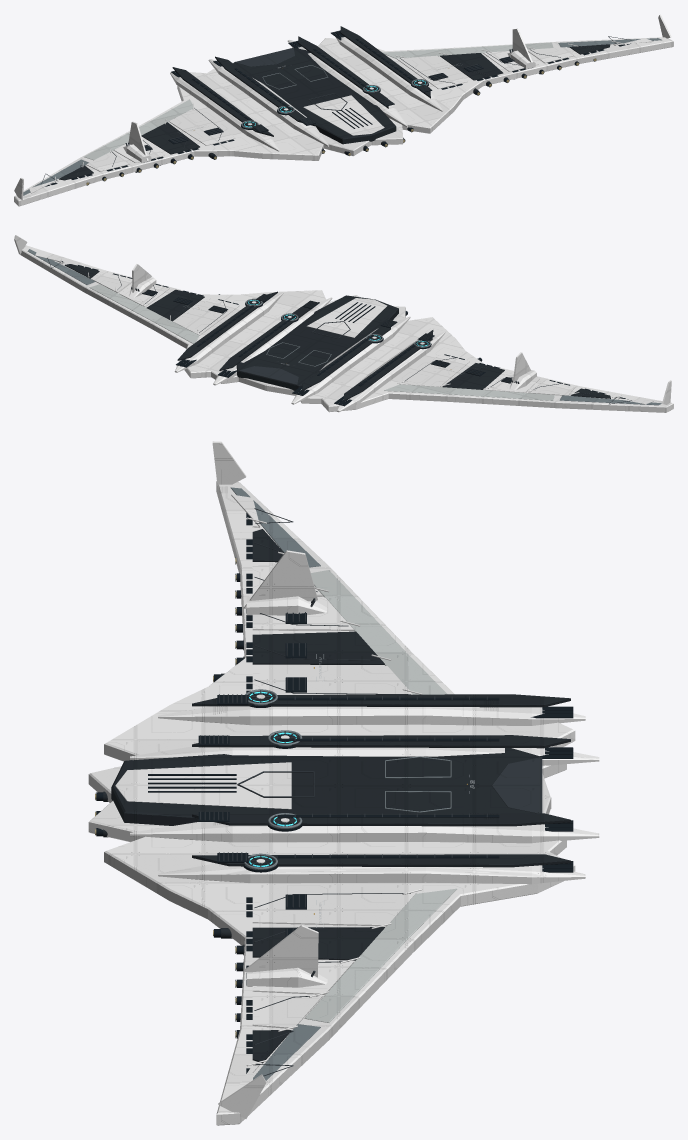
Rendered from luanniao-reconstruction.glb.
The picture shows the model from 3 angles, top to bottom: view 1: azimuth 30°, elevation 25°; view 2: azimuth 150°, elevation 25°; view 3: azimuth 270°, elevation 25°; orthographic projection. The views are drawn at different scales.
Visible parts, largest first — view 1: luanniao-hull, luanniao-armour, luanniao-dark, luanniao-panel, luanniao-white, luanniao-edge; view 2: luanniao-hull, luanniao-armour, luanniao-dark, luanniao-white, luanniao-panel, luanniao-edge; view 3: luanniao-hull, luanniao-armour, luanniao-dark, luanniao-white, luanniao-panel, luanniao-edge.
Part boxes in pixels (x1,y1,x2,y2): luanniao-hull: [14, 14, 673, 206]; luanniao-armour: [59, 26, 610, 180]; luanniao-dark: [45, 30, 630, 186]; luanniao-panel: [41, 36, 631, 183]; luanniao-white: [84, 42, 553, 160]; luanniao-edge: [23, 38, 661, 195]; luanniao-hull: [14, 235, 673, 412]; luanniao-armour: [64, 264, 610, 401]; luanniao-dark: [62, 261, 628, 406]; luanniao-white: [89, 284, 554, 400]; luanniao-panel: [47, 258, 631, 404]; luanniao-edge: [27, 249, 661, 405]; luanniao-hull: [88, 441, 599, 1125]; luanniao-armour: [103, 529, 570, 1063]; luanniao-dark: [96, 513, 573, 1073]; luanniao-white: [304, 570, 456, 1022]; luanniao-panel: [200, 508, 542, 1076]; luanniao-edge: [95, 487, 451, 1080].
Bounding box in the file's own units: 24.05 × 1.37 × 8.19.
9 materials, 6 textured.
